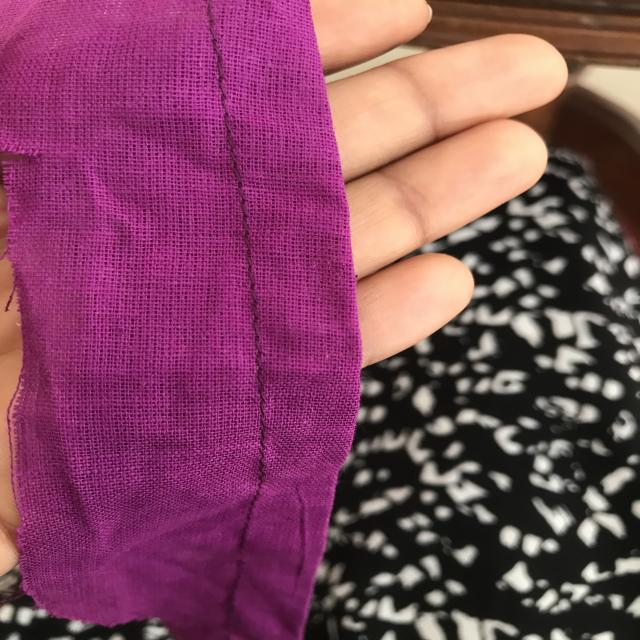good: (208, 205, 290, 357)
